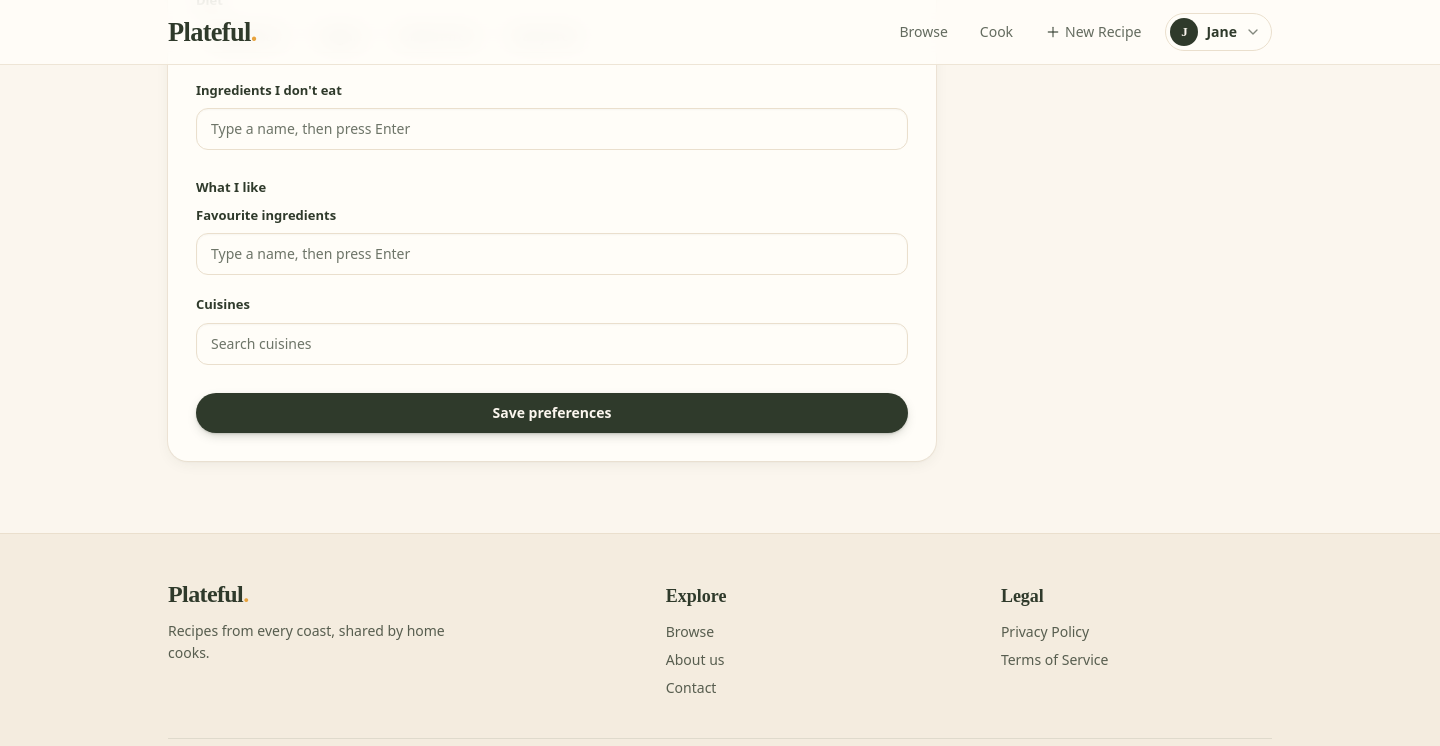
Test: preferences panel › a404ShowsTheEmptyForm
(page scrolled)
Note: The allergy answer is still required for a first save.
Step 1. Click the button "Save preferences" → (552, 412), box [196,392,908,432]
(page scrolled)
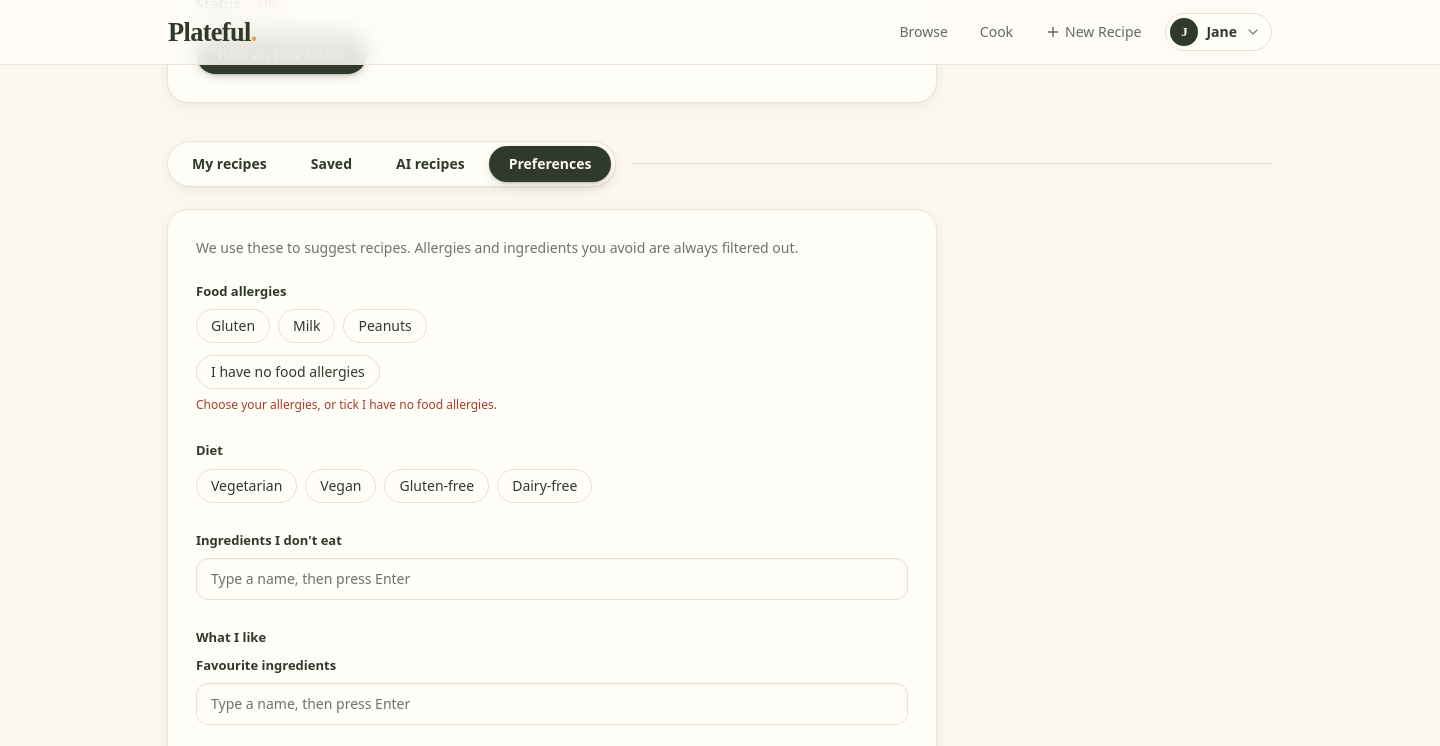
Expected: the text "Choose your allergies, or tick I have no food allergies." is shown, [196,396,497,413]
